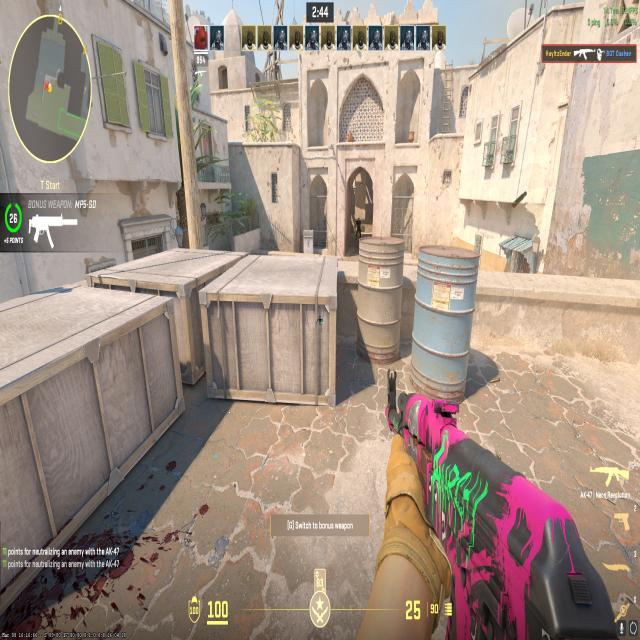ct: (355, 214, 363, 242)
